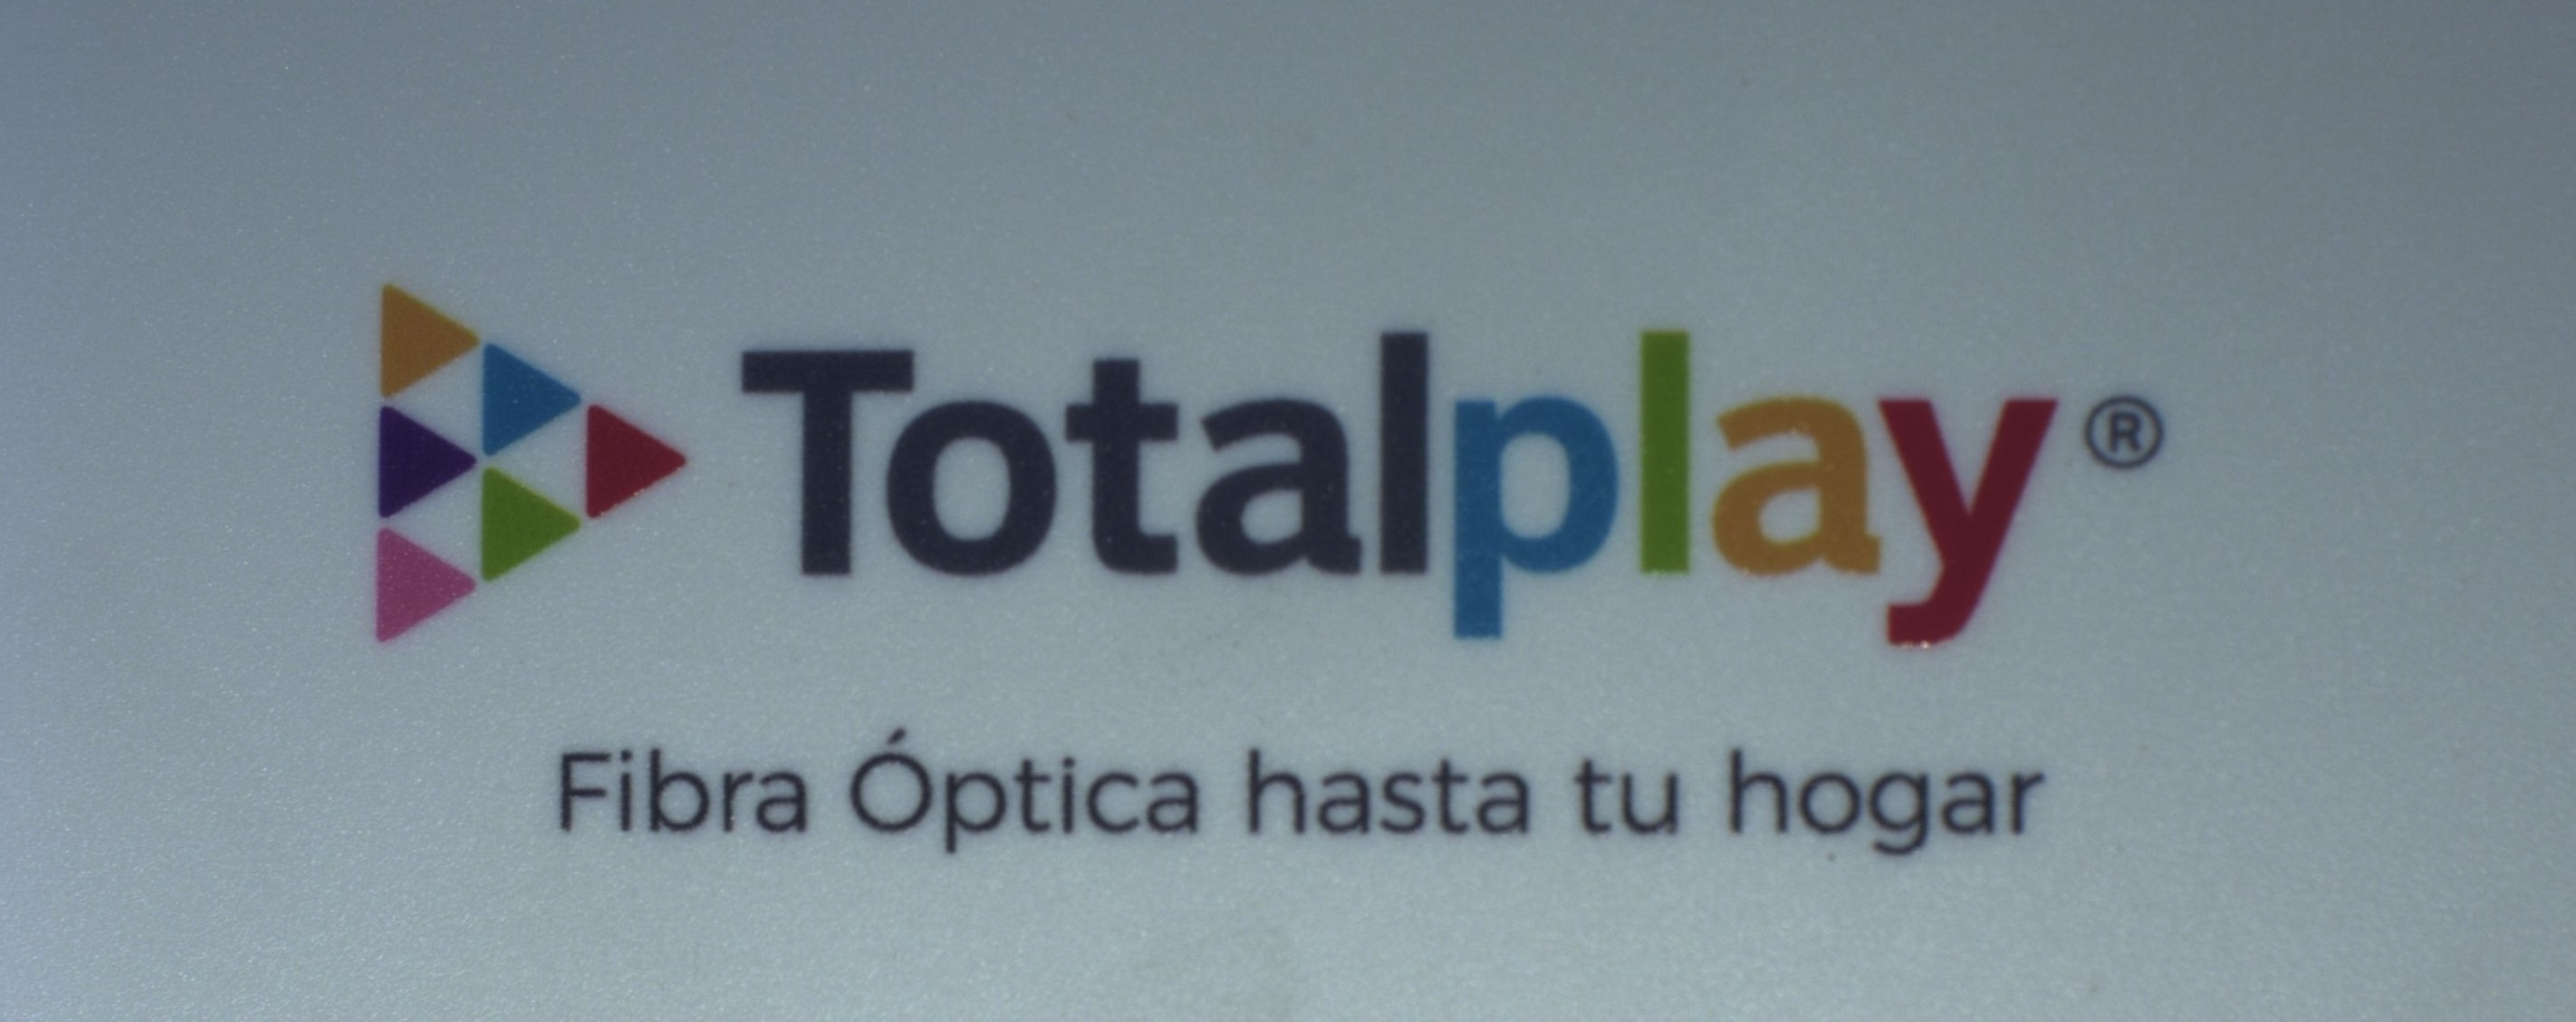BP_TotalPlay: (348, 260, 2180, 869)
